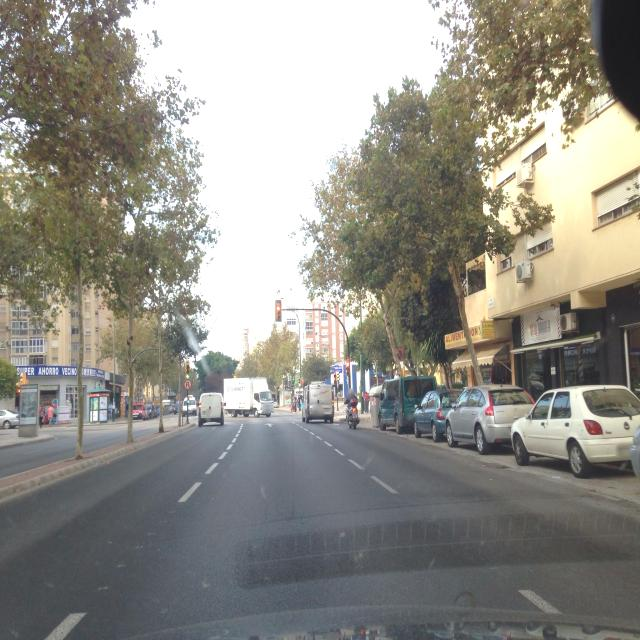bike: (345, 405, 360, 429)
car: (510, 382, 640, 478), (444, 382, 536, 454), (377, 375, 437, 434), (412, 388, 463, 442), (300, 382, 334, 424), (198, 391, 225, 427), (0, 407, 19, 429), (131, 403, 148, 420), (182, 398, 198, 416), (144, 403, 157, 418), (154, 404, 162, 416)
